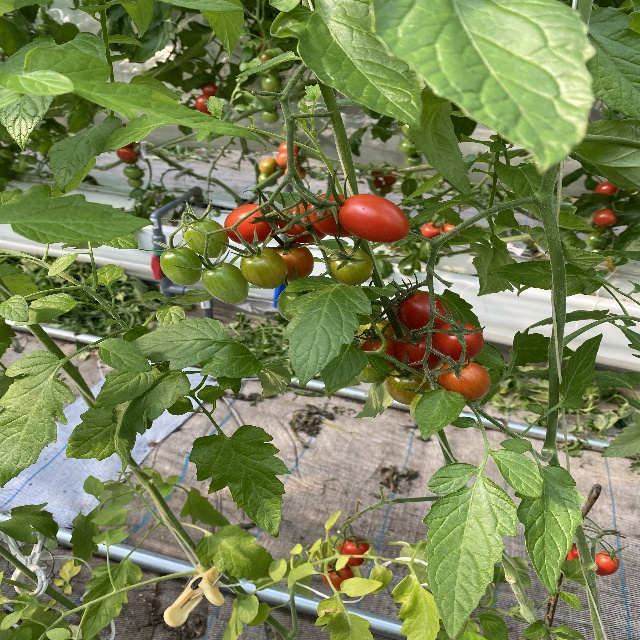l_fully_ripened: (336, 193, 409, 243), (224, 203, 280, 246), (431, 319, 484, 361), (401, 293, 452, 334), (307, 194, 354, 238), (395, 332, 446, 372), (278, 204, 327, 243), (361, 334, 404, 371), (337, 535, 373, 567), (322, 560, 355, 592)
l_green: (202, 263, 250, 304), (182, 218, 229, 259), (328, 246, 374, 286), (159, 247, 204, 287), (276, 289, 315, 322), (356, 365, 391, 384)
l_half_ripened: (437, 360, 493, 401), (240, 245, 288, 290), (385, 367, 432, 406), (274, 241, 315, 282), (359, 317, 396, 345)
